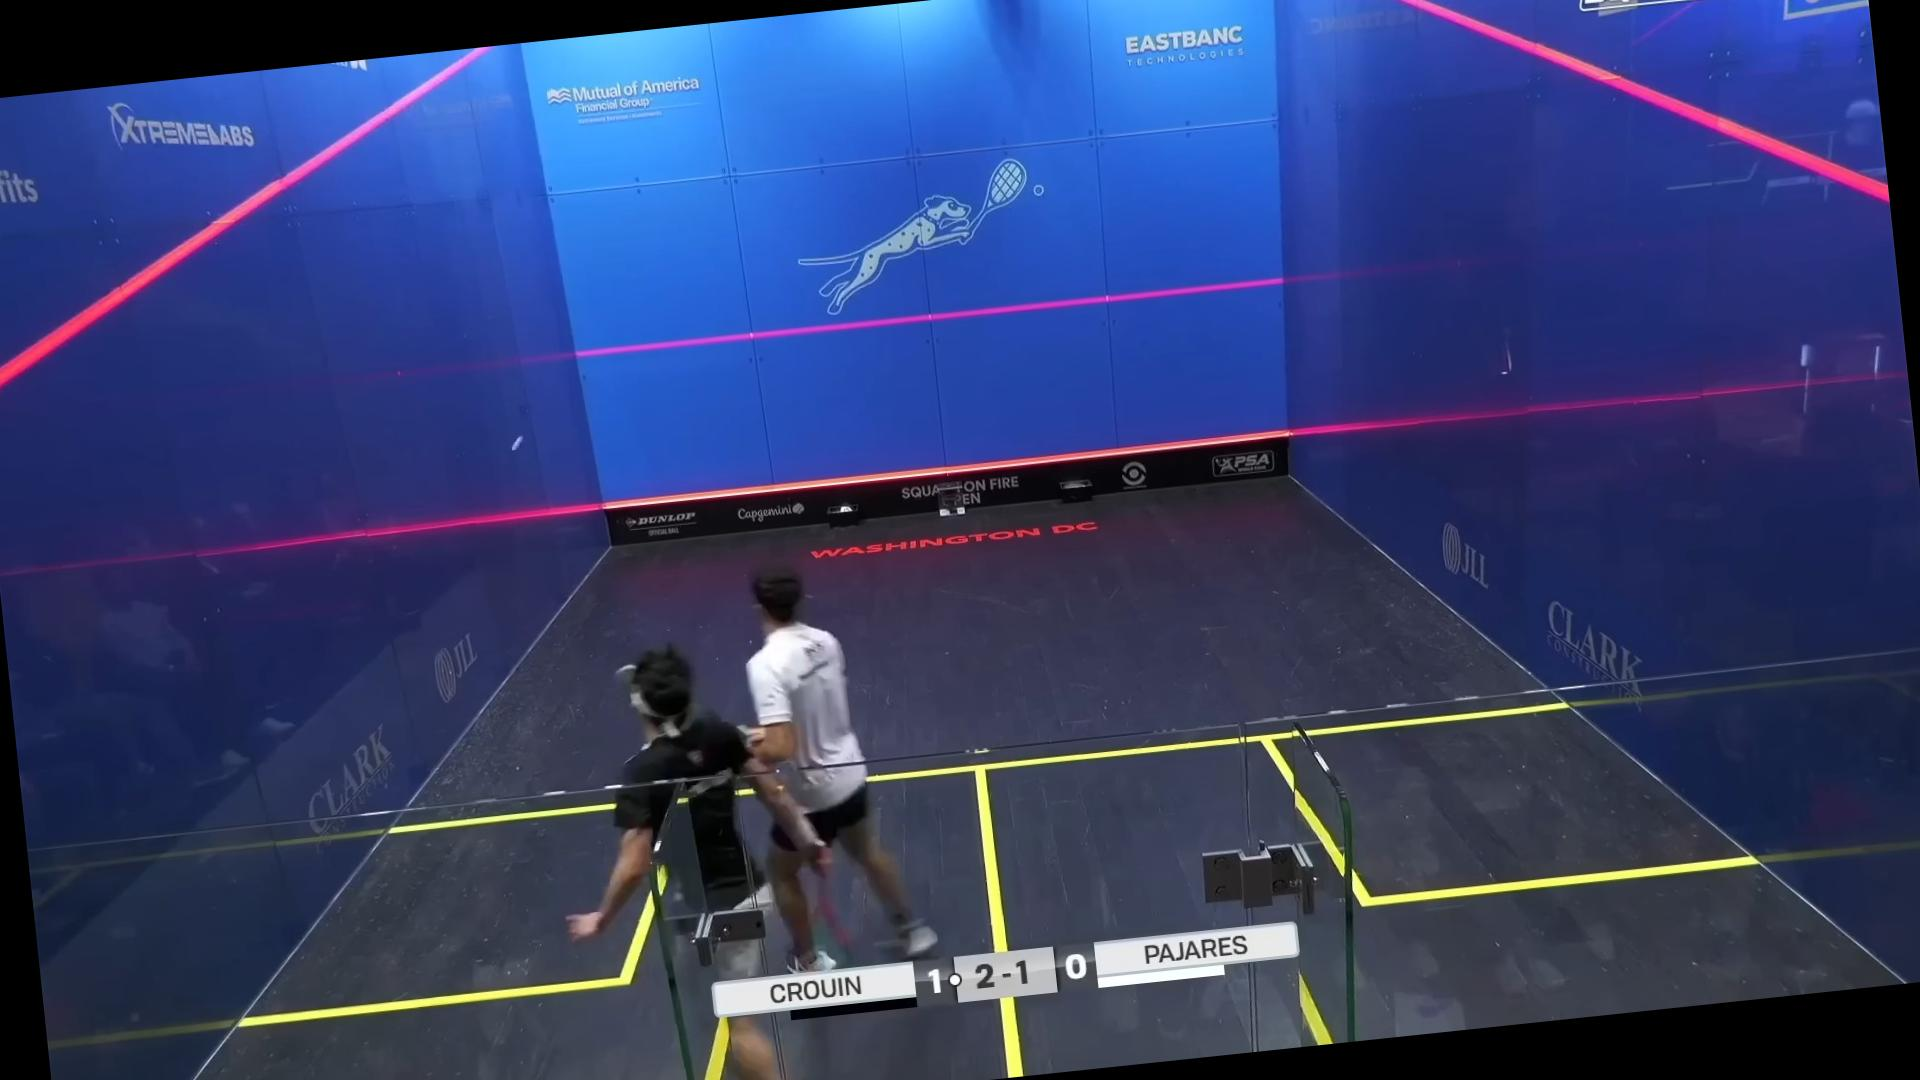Squash-Ball: (492, 423, 539, 468)
